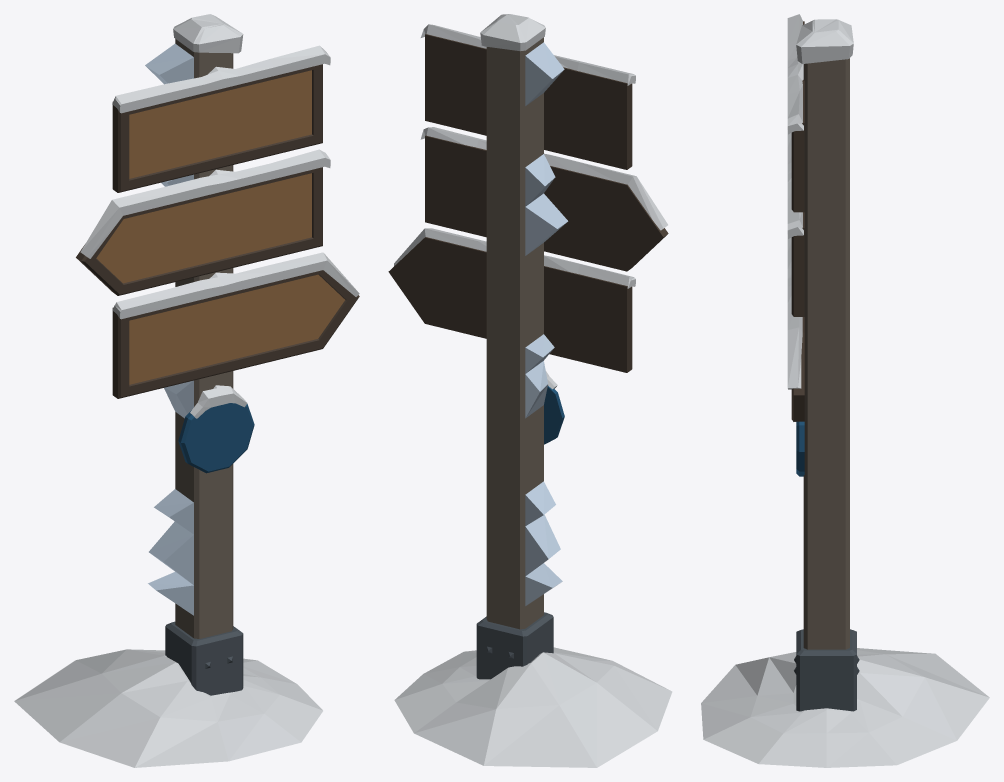
File: wayfinder-post-961fcd.glb
3 views of the same model, side by side, from view 1: azimuth 30°, elevation 25°; view 2: azimuth 150°, elevation 25°; view 3: azimuth 270°, elevation 25° (orthographic). The views are drawn at different scales.
Visible parts, largest first — view 1: wayfinder-post; view 2: wayfinder-post; view 3: wayfinder-post.
Part boxes in pixels (box(x1,y1,x2,y2)): wayfinder-post: box(14, 14, 359, 767); wayfinder-post: box(388, 14, 672, 767); wayfinder-post: box(701, 14, 989, 767).
Size of the model in its own units: 1.16 by 2.67 by 1.
